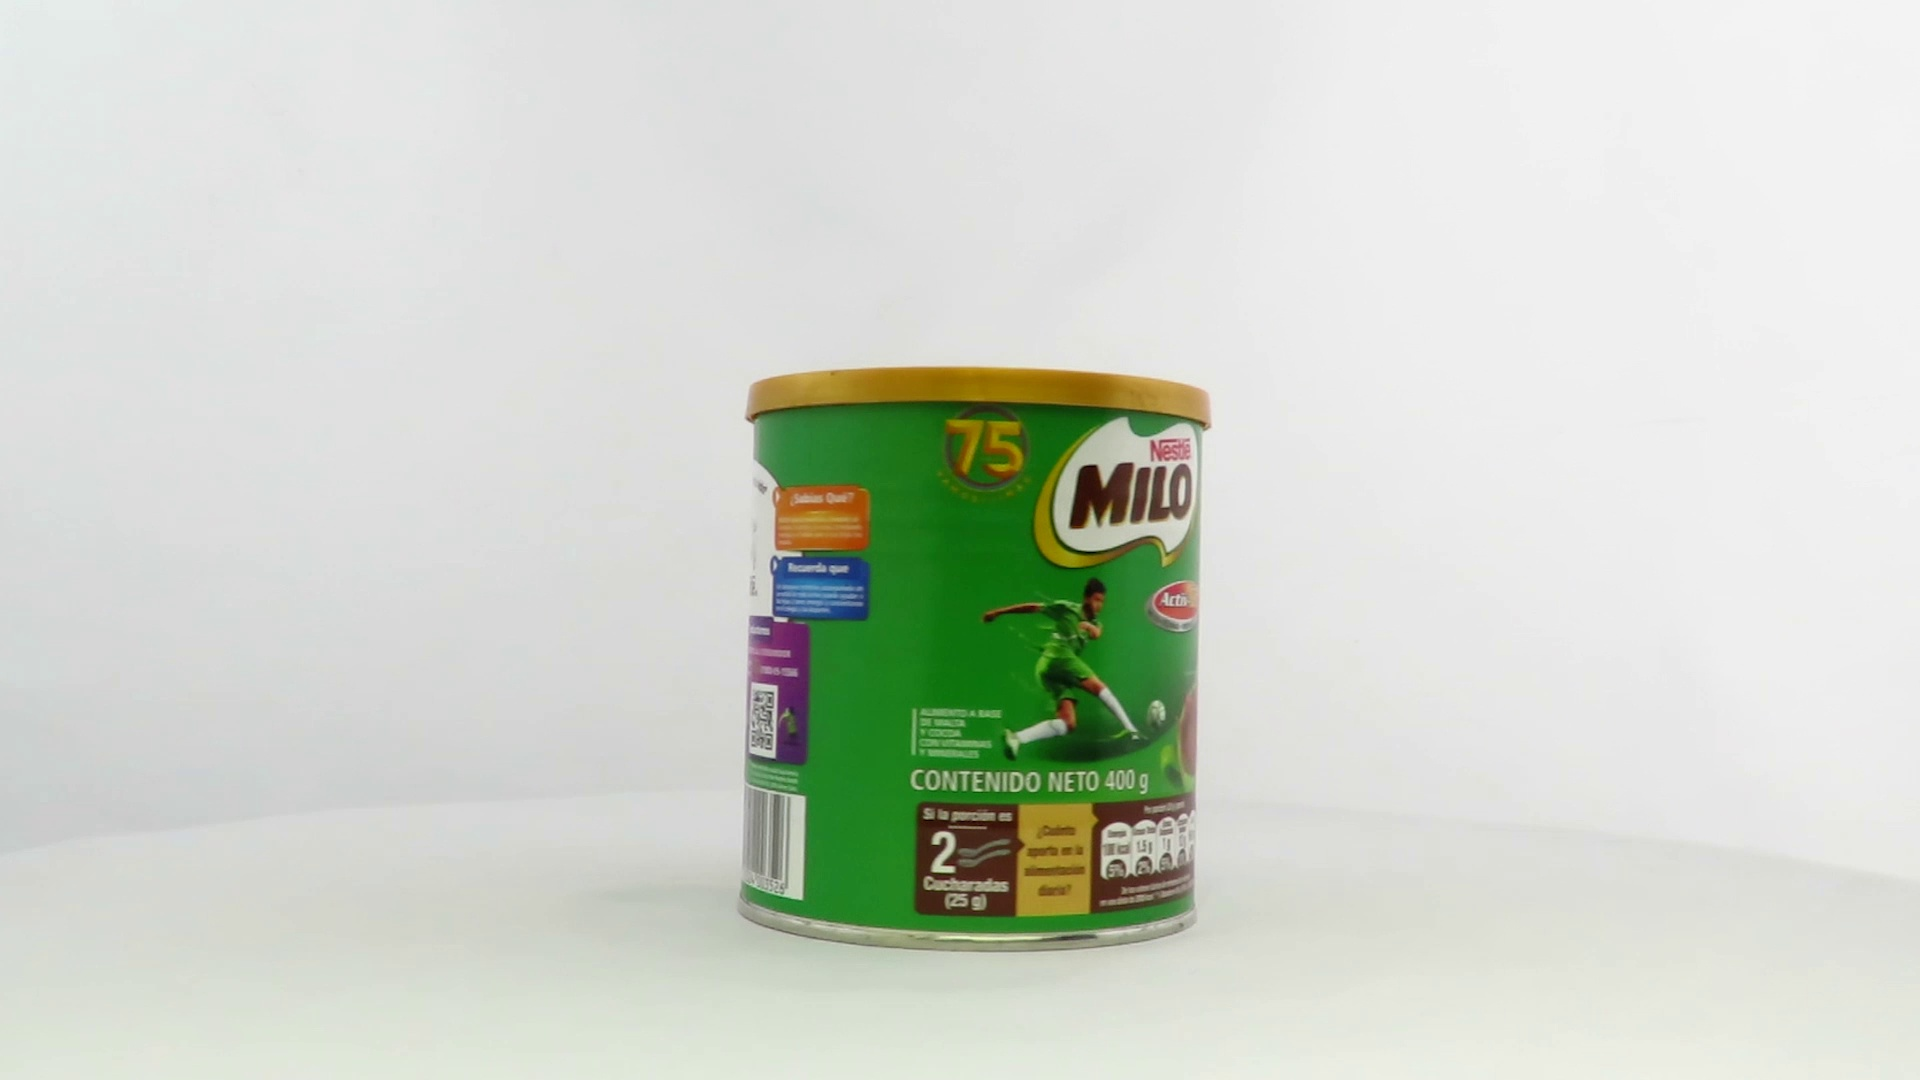COL0170203LAT40000: (731, 361, 1218, 959)
